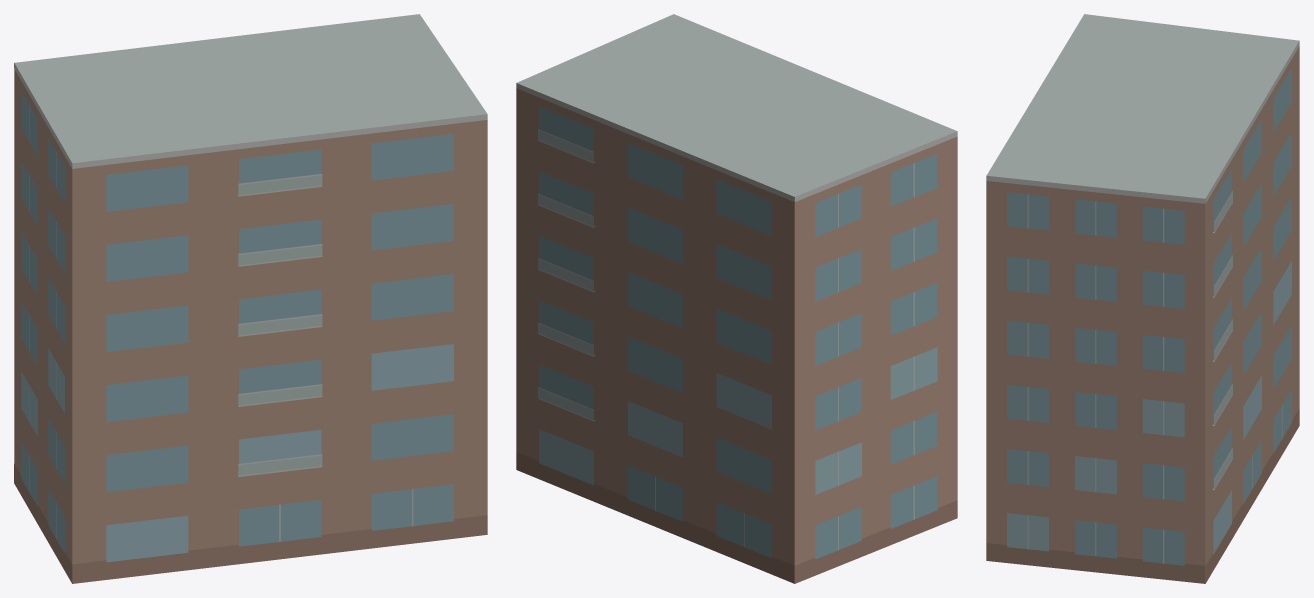
File: survey-upis-32741692.glb
3 views of the same model, side by side, from view 1: azimuth 30°, elevation 25°; view 2: azimuth 150°, elevation 25°; view 3: azimuth 270°, elevation 25° (orthographic). The views are drawn at different scales.
Parts seen in each view (by area): view 1: survey-upis-32741692.tmp; view 2: survey-upis-32741692.tmp; view 3: survey-upis-32741692.tmp.
Part boxes in pixels (x1,y1,x2,y2): survey-upis-32741692.tmp: (14, 14, 487, 583); survey-upis-32741692.tmp: (516, 14, 957, 583); survey-upis-32741692.tmp: (986, 14, 1299, 583).
Bounding box in the file's own units: 18.84 × 18.3 × 13.5.
